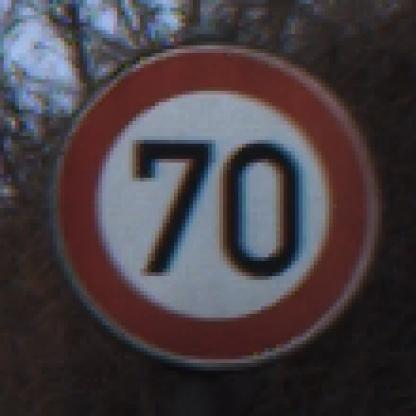Speed Limit 70: (56, 46, 375, 364)
